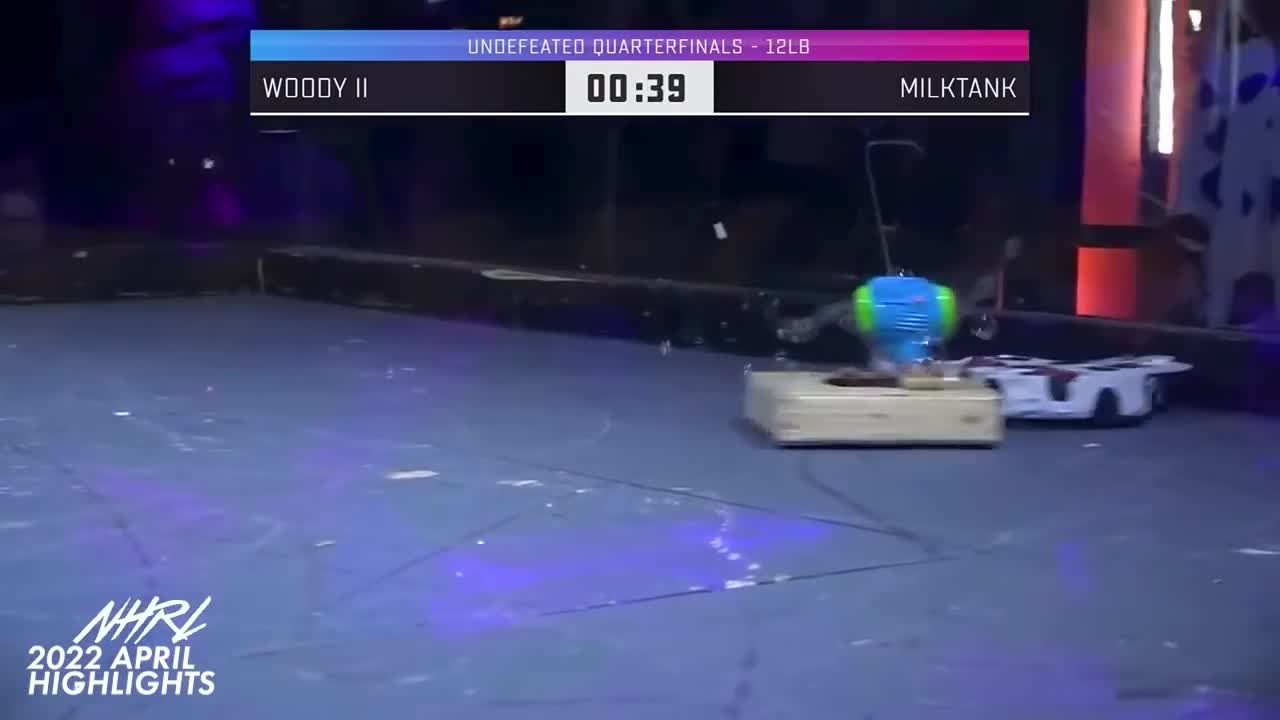combatbot: (942, 341, 1196, 436), (738, 367, 1008, 453)
